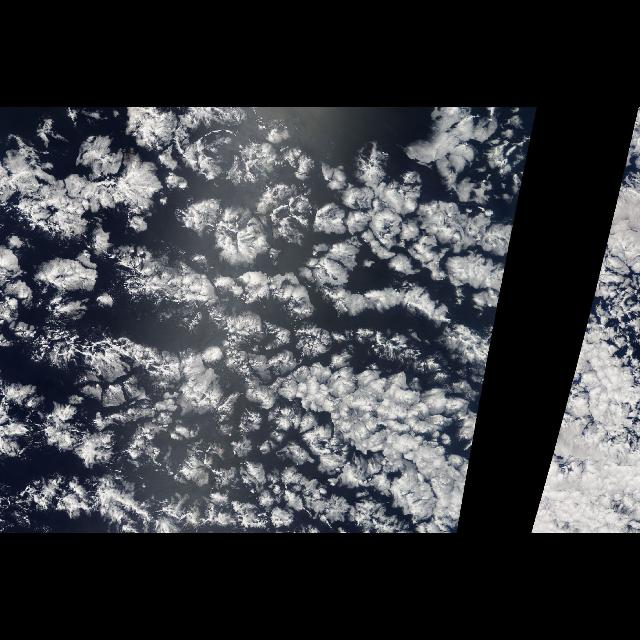Flower: (0, 111, 526, 519)
